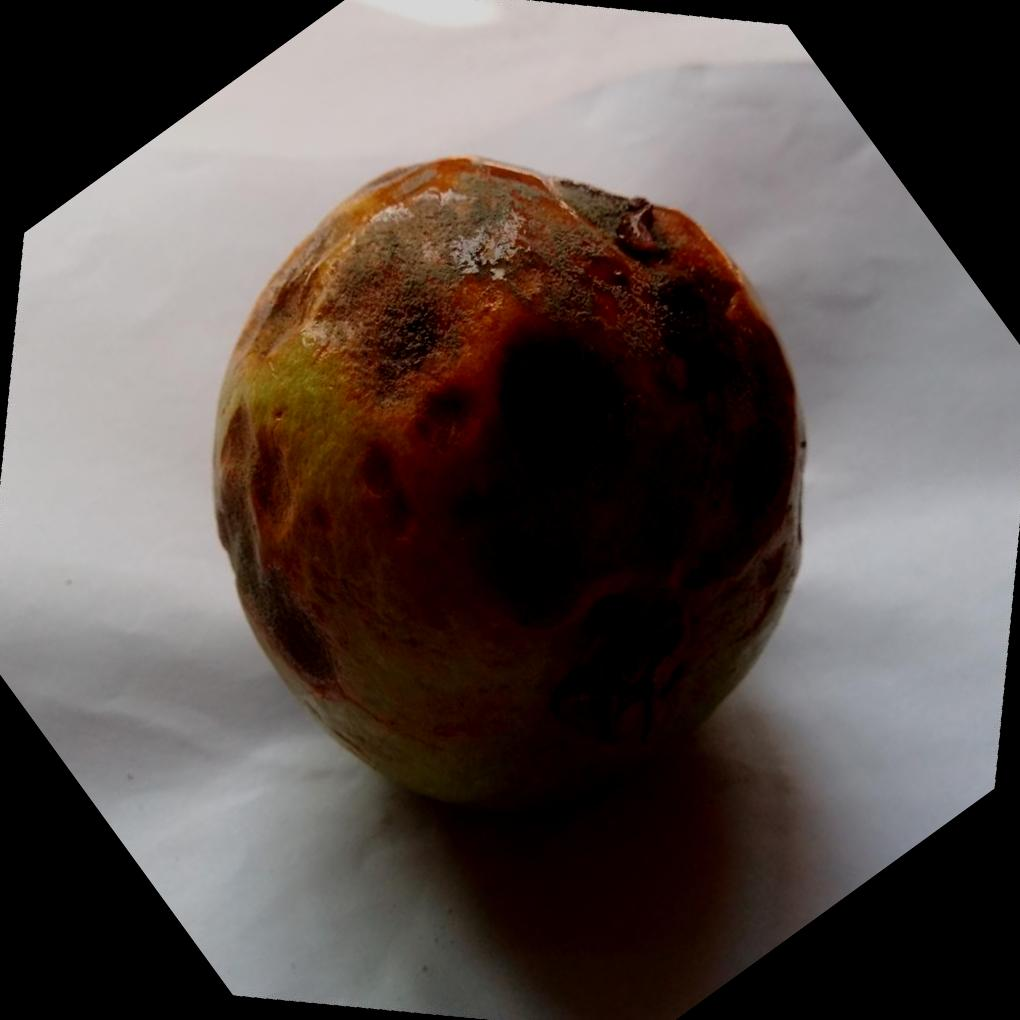FreshOrange: (205, 154, 807, 819)
